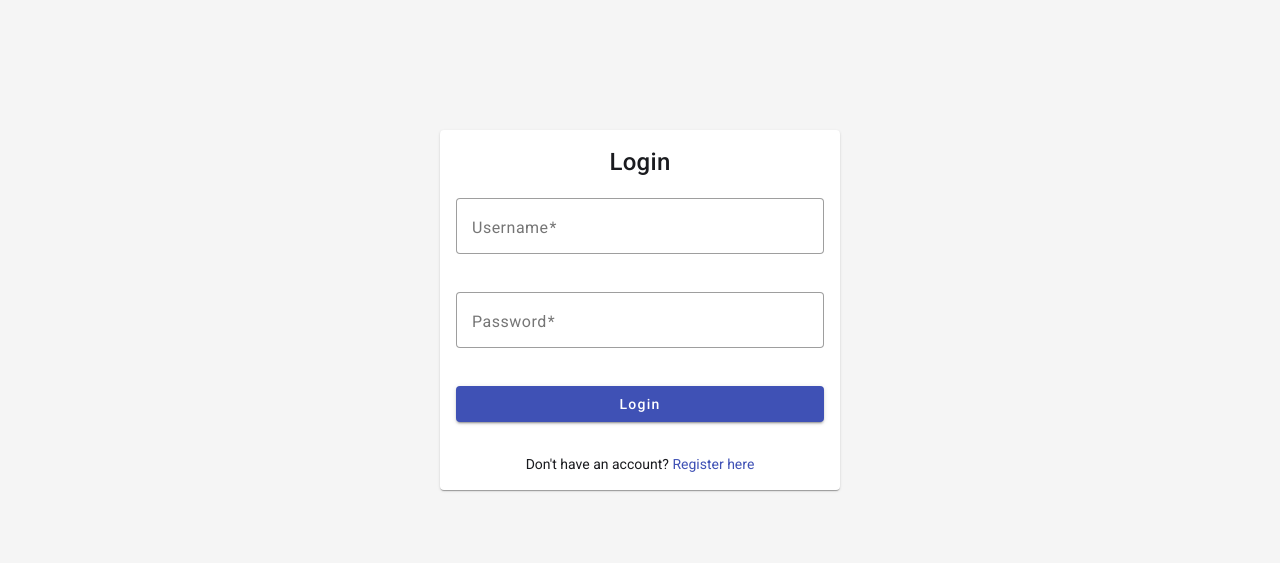
Test: Heart Health Display Card › shows error message when summary request fails
Type "demo" into the field named "username" at (640, 226), box [472,214,808,238]
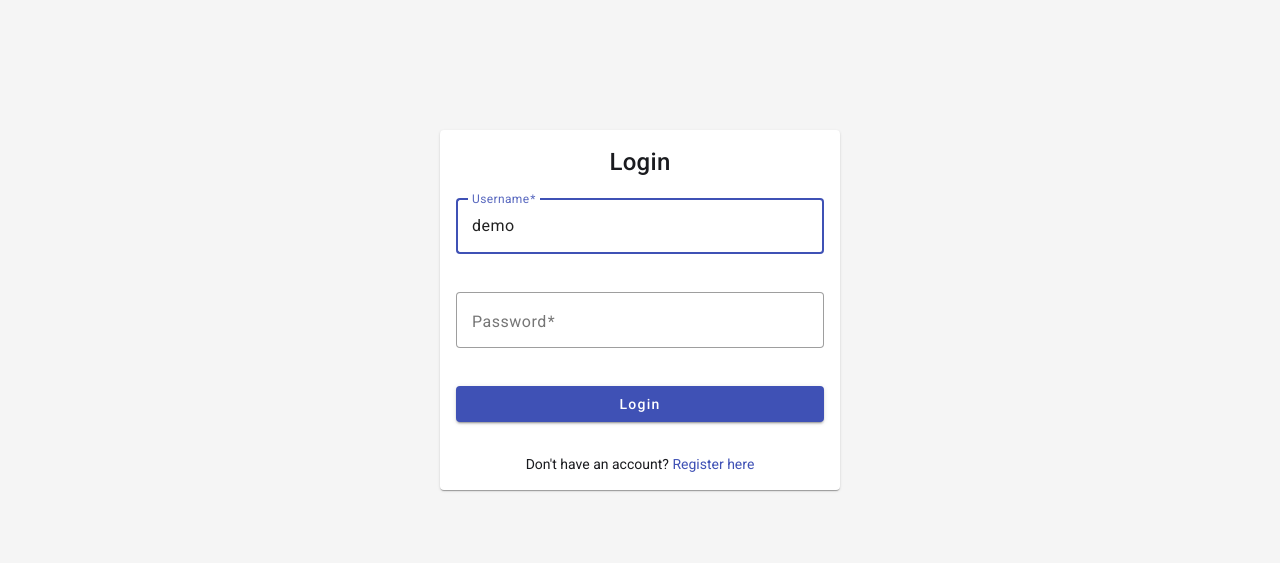
Type "demo" into the password field named "password" at (640, 320), box [472,308,808,332]
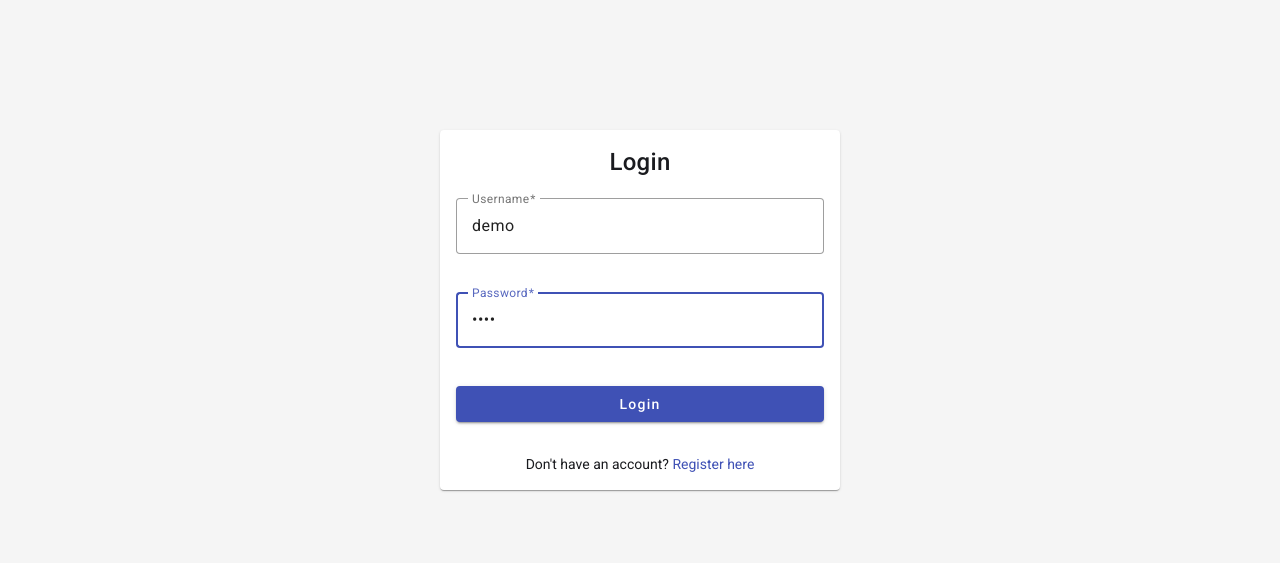
Click the submit button at (640, 404), box [456,386,824,422]
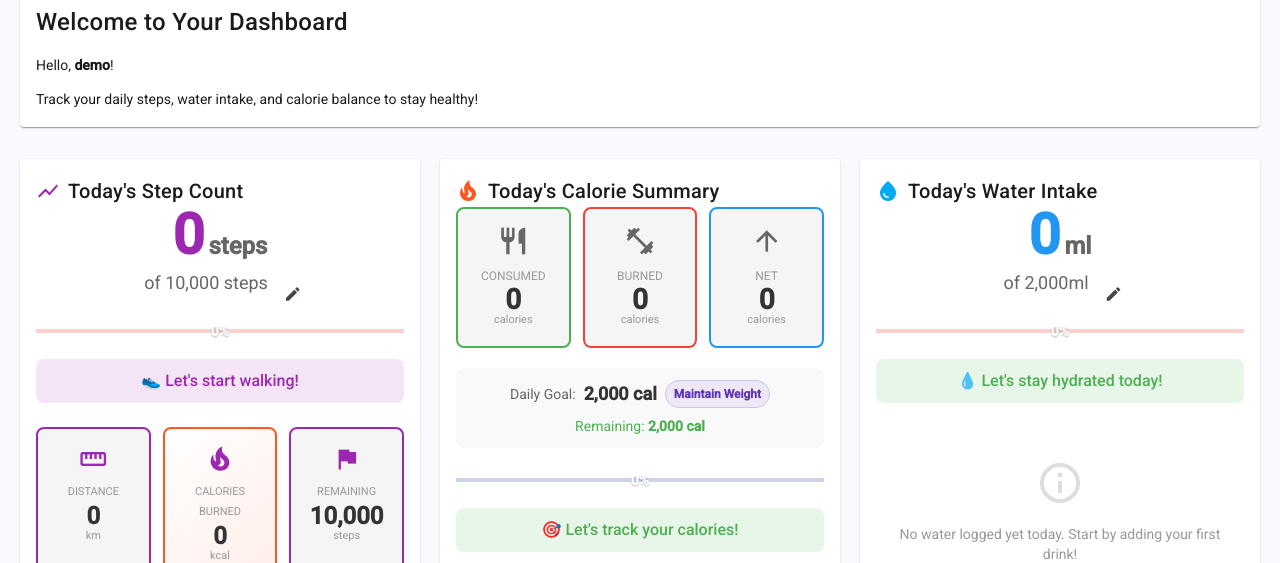
Scroll
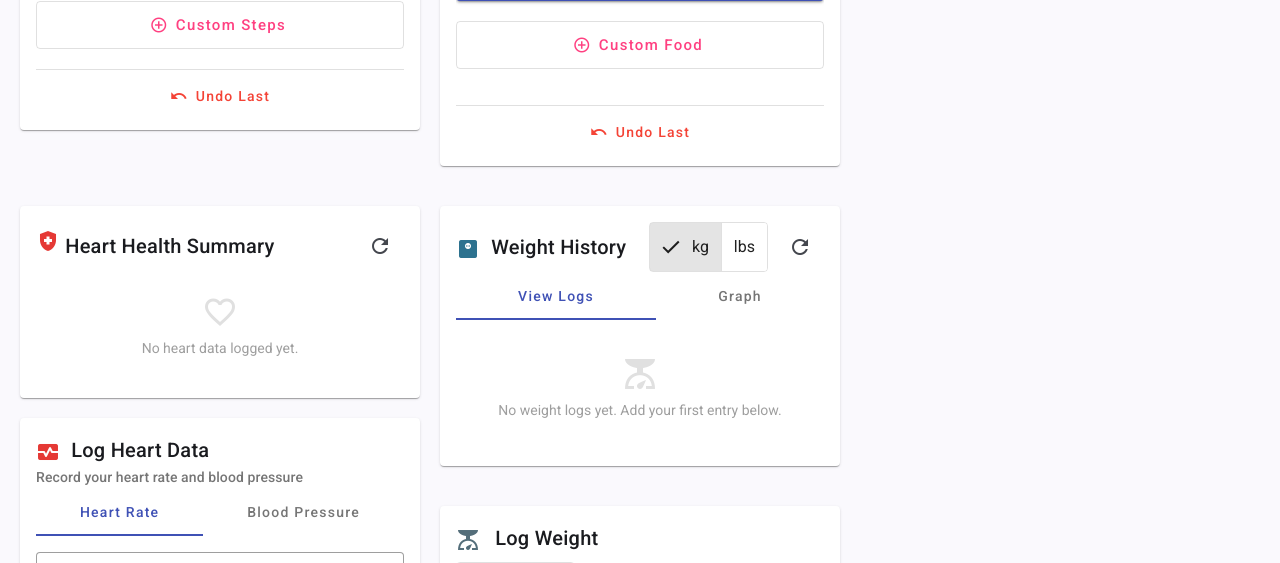
Click the button "refresh" next to "Heart Health Summary" at (380, 246), box [356,222,404,270]
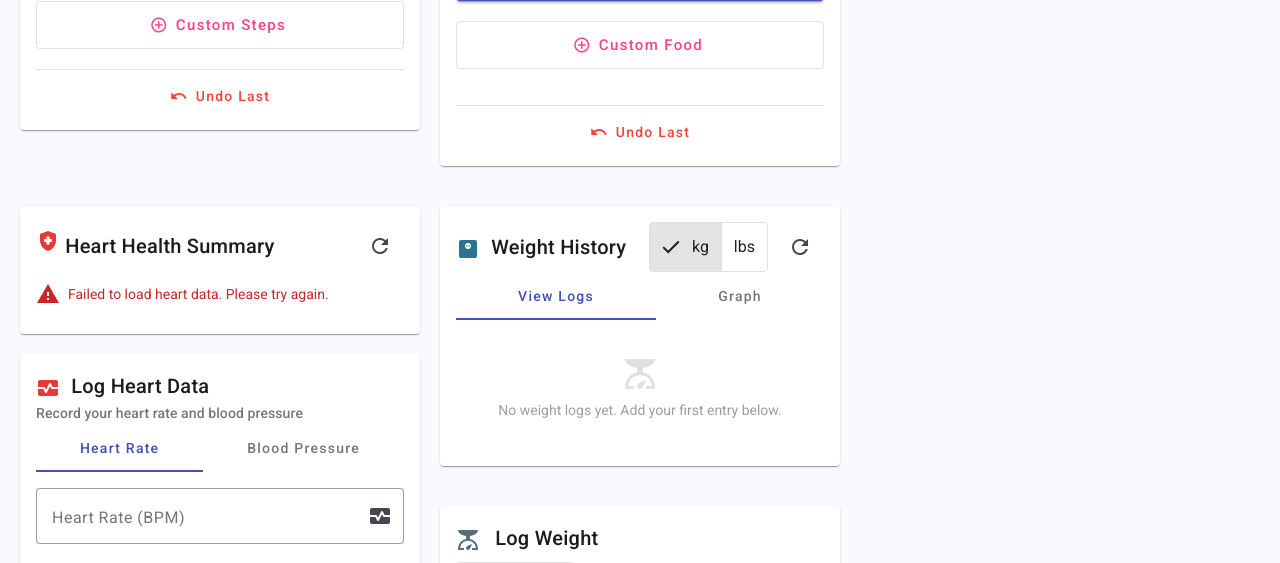
Result: the text "Failed to load heart data" is shown at [68,286,329,302]
